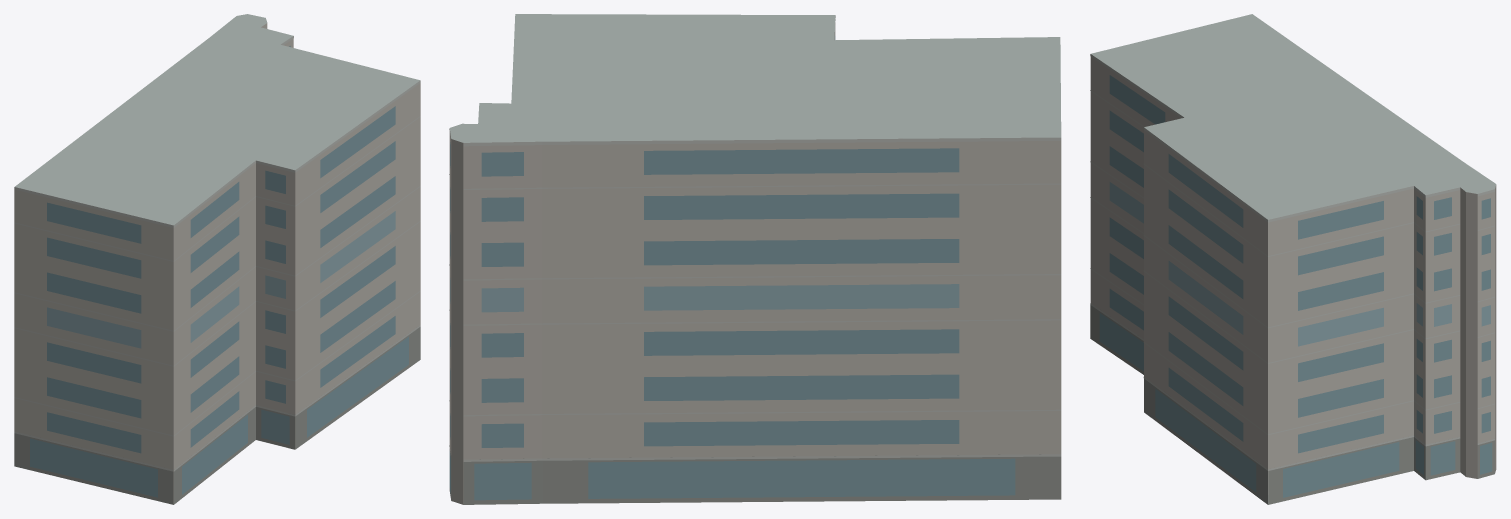
Rendered from survey-upis-32702696.glb.
3 views of the same model, side by side, from view 1: azimuth 30°, elevation 25°; view 2: azimuth 150°, elevation 25°; view 3: azimuth 270°, elevation 25° (orthographic). The views are drawn at different scales.
Parts seen in each view (by area): view 1: survey-upis-32702696.tmp; view 2: survey-upis-32702696.tmp; view 3: survey-upis-32702696.tmp.
Part boxes in pixels (left/top/right/bottom): survey-upis-32702696.tmp: left=14, top=14, right=420, bottom=504; survey-upis-32702696.tmp: left=449, top=14, right=1061, bottom=504; survey-upis-32702696.tmp: left=1090, top=14, right=1496, bottom=504.
Size of the model in its own units: 41.09 by 26.5 by 34.23.
